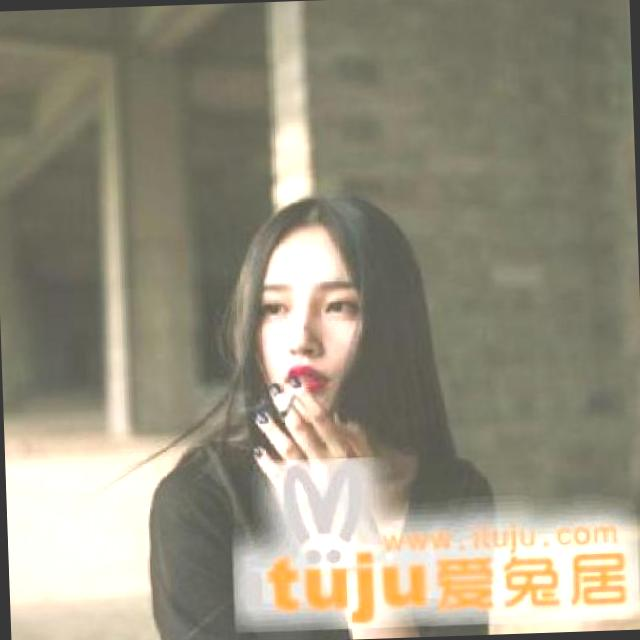smoke: (277, 386, 300, 421)
